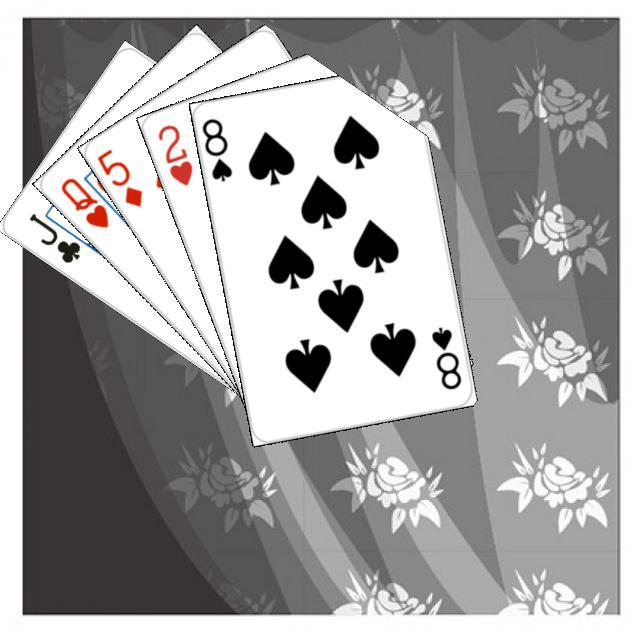2h: (153, 119, 195, 188)
5d: (92, 144, 145, 209)
8s: (426, 321, 463, 392), (197, 113, 234, 183)
Jc: (24, 208, 83, 265)
Qh: (55, 173, 111, 230)
